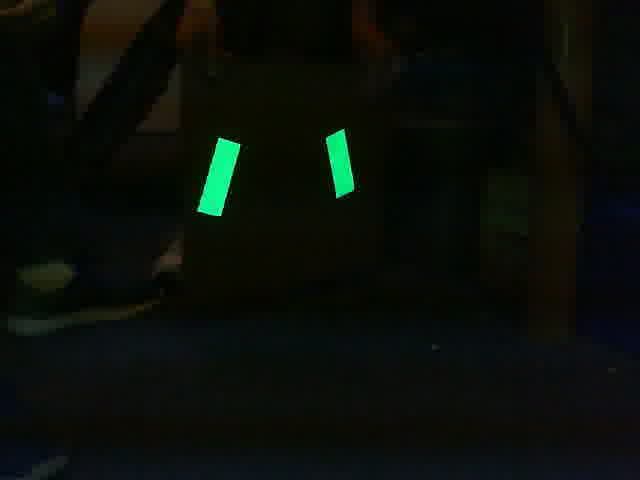target: (194, 127, 359, 219)
